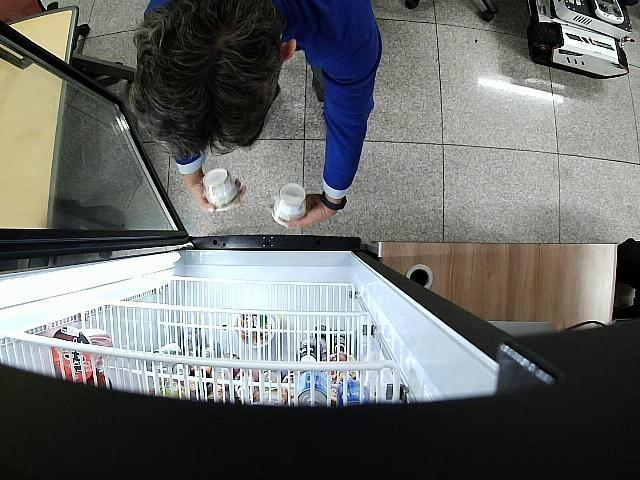04_chapagetti_S: (202, 168, 242, 212), (272, 184, 306, 226)
